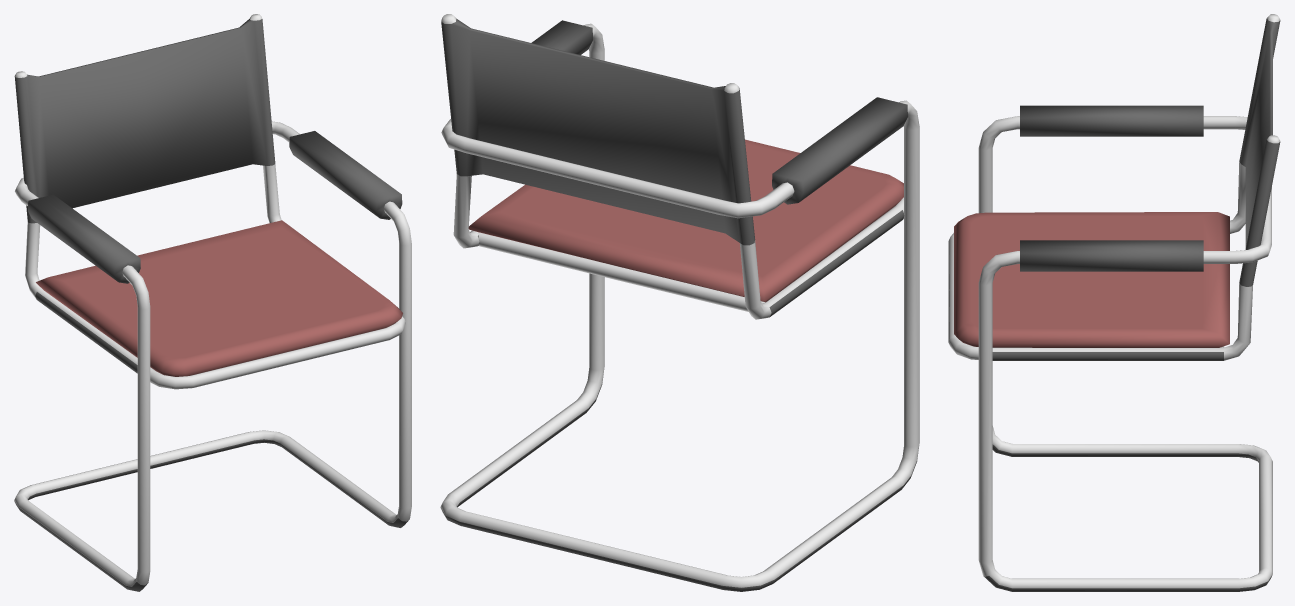
File: Chair.dae
The picture shows the model from 3 angles, left to right: view 1: azimuth 30°, elevation 25°; view 2: azimuth 150°, elevation 25°; view 3: azimuth 270°, elevation 25°; orthographic projection. The views are drawn at different scales.
Visible parts, largest first — view 1: Cube.188; view 2: Cube.188; view 3: Cube.188.
Boxes of the visible parts, box(x1,y1,x2,y2) form: Cube.188: box(14, 14, 411, 591); Cube.188: box(440, 14, 919, 591); Cube.188: box(948, 14, 1280, 591).
Size of the model in its own units: 1.07 by 1.02 by 1.51.
